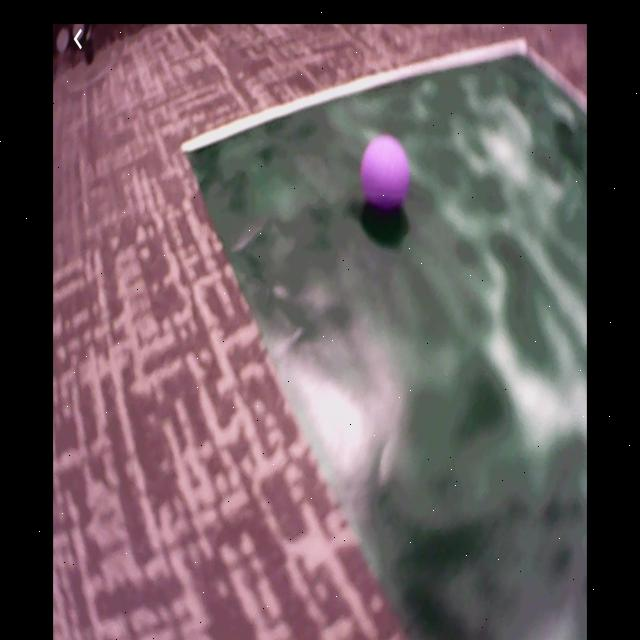ball: (363, 135, 411, 211)
